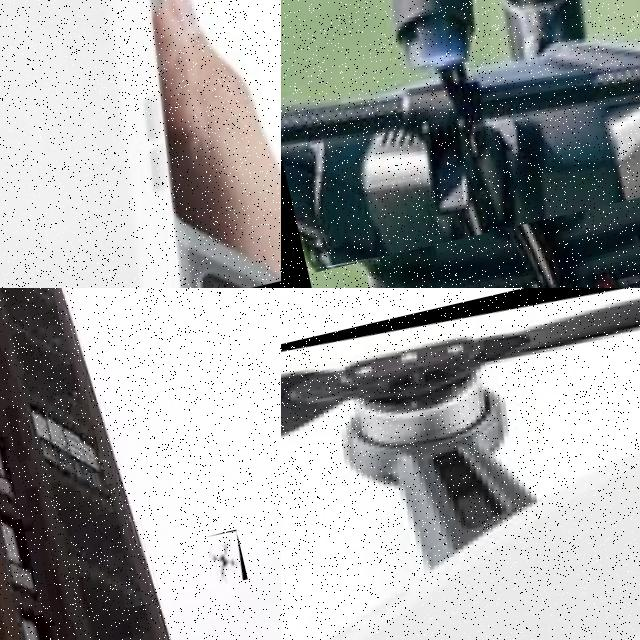drone: (281, 288, 640, 640), (281, 0, 640, 273), (0, 0, 281, 288), (205, 529, 248, 586)
